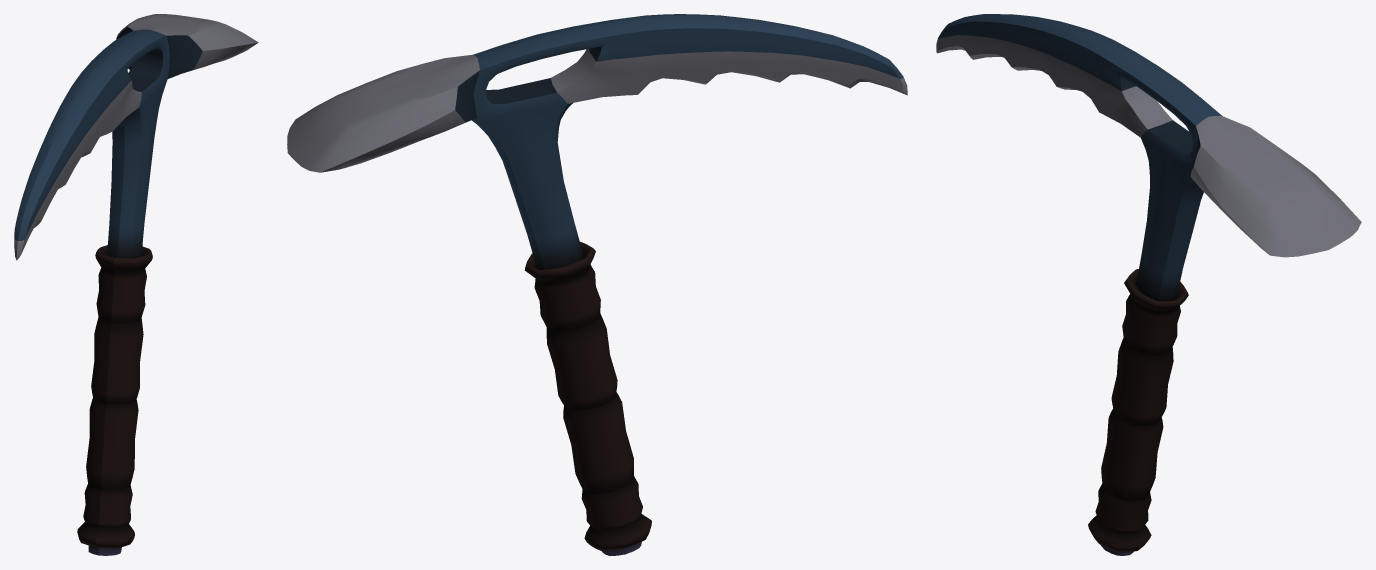
Rendered from pickaxe.fbx.
The picture shows the model from 3 angles, left to right: view 1: azimuth 30°, elevation 25°; view 2: azimuth 150°, elevation 25°; view 3: azimuth 270°, elevation 25°; orthographic projection. The views are drawn at different scales.
Parts seen in each view (by area): view 1: pCube2; view 2: pCube2; view 3: pCube2.
Part boxes in pixels (x1,y1,x2,y2): pCube2: (14,14,258,555); pCube2: (287,14,907,555); pCube2: (936,14,1361,555).
Size of the model in its own units: 19.25 by 22.39 by 17.2.
